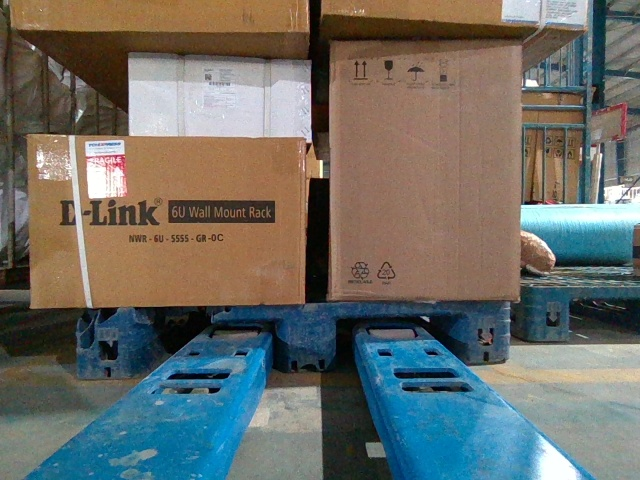pallet: (78, 300, 510, 375)
